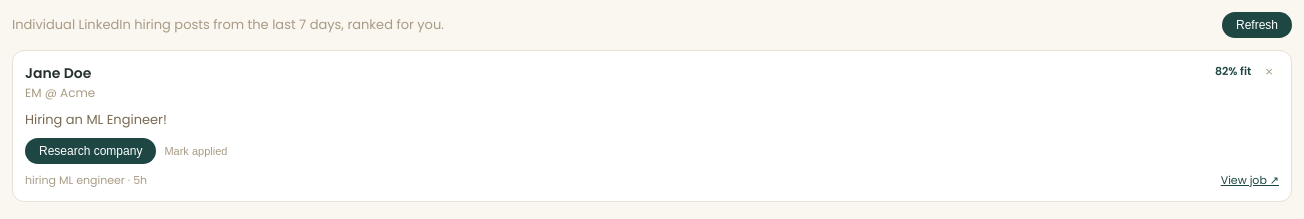
dismiss removes the card
Expected: the text "Jane Doe" is shown, [25, 63, 95, 84]
Click the button named "Dismiss": (1269, 72) [1259, 63, 1279, 80]
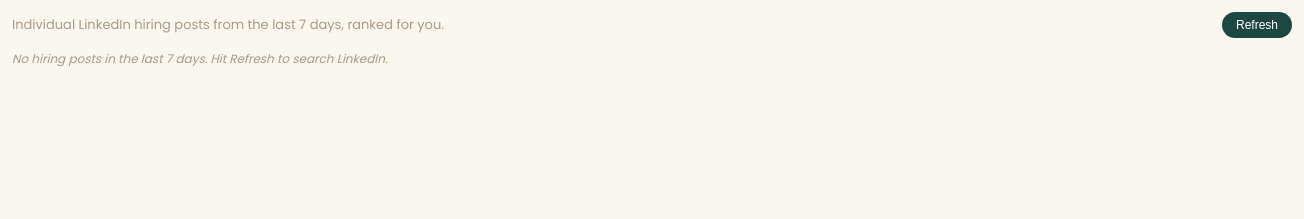
Now the text "Jane Doe" is gone
